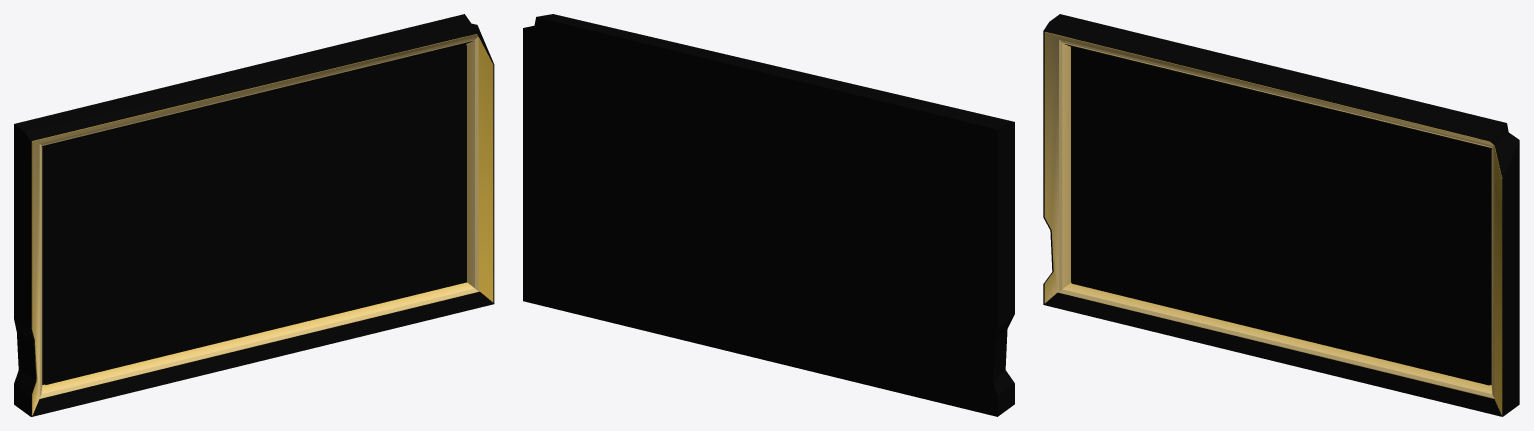
The model's file is Rooms_Paradise_NFT_Frame01_Art.fbx.
3 renders of one model, left to right at view 1: azimuth 30°, elevation 25°; view 2: azimuth 150°, elevation 25°; view 3: azimuth 330°, elevation 25°, orthographic. The views are drawn at different scales.
Parts seen in each view (by area): view 1: Rooms_Paradise_NFT_Frame01_Art; view 2: Rooms_Paradise_NFT_Frame01_Art; view 3: Rooms_Paradise_NFT_Frame01_Art.
Part boxes in pixels (left/top/right/bottom): Rooms_Paradise_NFT_Frame01_Art: left=14, top=14, right=494, bottom=416; Rooms_Paradise_NFT_Frame01_Art: left=523, top=14, right=1014, bottom=416; Rooms_Paradise_NFT_Frame01_Art: left=1043, top=14, right=1519, bottom=416.
Size of the model in its own units: 340 by 197 by 22.06.
